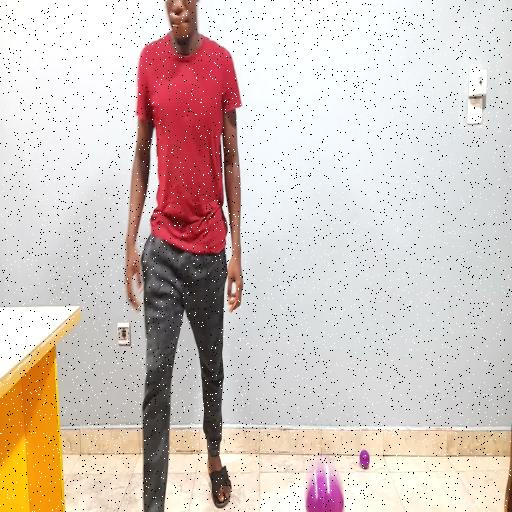plastic-ball: (303, 467, 346, 512)
